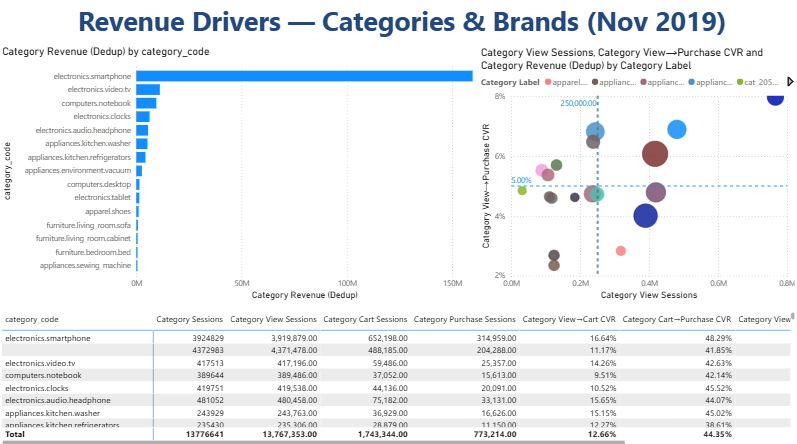

The dashboard page shown, as its layout file describes it:
{"tool":"powerbi","page":{"name":"Revenue Drivers","canvas":[1280,720],"ordinal":2},"visuals":[{"type":"textbox","box":[10,0,1270,73.3],"z":0},{"type":"clusteredBarChart","fields":{"Category":["dim_category.category_code"],"Y":["agg_category_funnel.Category Revenue (Dedup)"]},"box":[0,73.3,780,413.3],"z":1000},{"type":"pivotTable","fields":{"Rows":["dim_category.category_code"],"Values":["agg_category_funnel.Category Sessions","agg_category_funnel.Category View Sessions","agg_category_funnel.Category Cart Sessions","agg_category_funnel.Category Purchase Sessions","agg_category_funnel.Category View→Cart CVR","agg_category_funnel.Category Cart→Purchase CVR","agg_category_funnel.Category View→Purchase CVR","agg_category_funnel.Category Revenue (Dedup)"]},"box":[0,496.7,1280,223.3],"z":2000},{"type":"scatterChart","fields":{"X":["agg_category_funnel.Category View Sessions"],"Y":["agg_category_funnel.Category View→Purchase CVR"],"Size":["agg_category_funnel.Category Revenue (Dedup)"],"Series":["dim_category.Category Label"]},"box":[765.8,73.3,514.2,412.5],"z":3000}]}

Visuals, with their boxes in screenshot pixels (x1, y1, x2, y2), scaled from the page's 1280x720 canvas onto the 797x444 screenshot:
textbox: (x1=6, y1=0, x2=796, y2=45)
clusteredBarChart - dim_category.category_code x agg_category_funnel.Category Revenue (Dedup): (x1=0, y1=45, x2=486, y2=300)
pivotTable - dim_category.category_code x agg_category_funnel.Category Sessions: (x1=0, y1=306, x2=796, y2=443)
scatterChart - agg_category_funnel.Category View Sessions x agg_category_funnel.Category View→Purchase CVR: (x1=477, y1=45, x2=796, y2=300)
